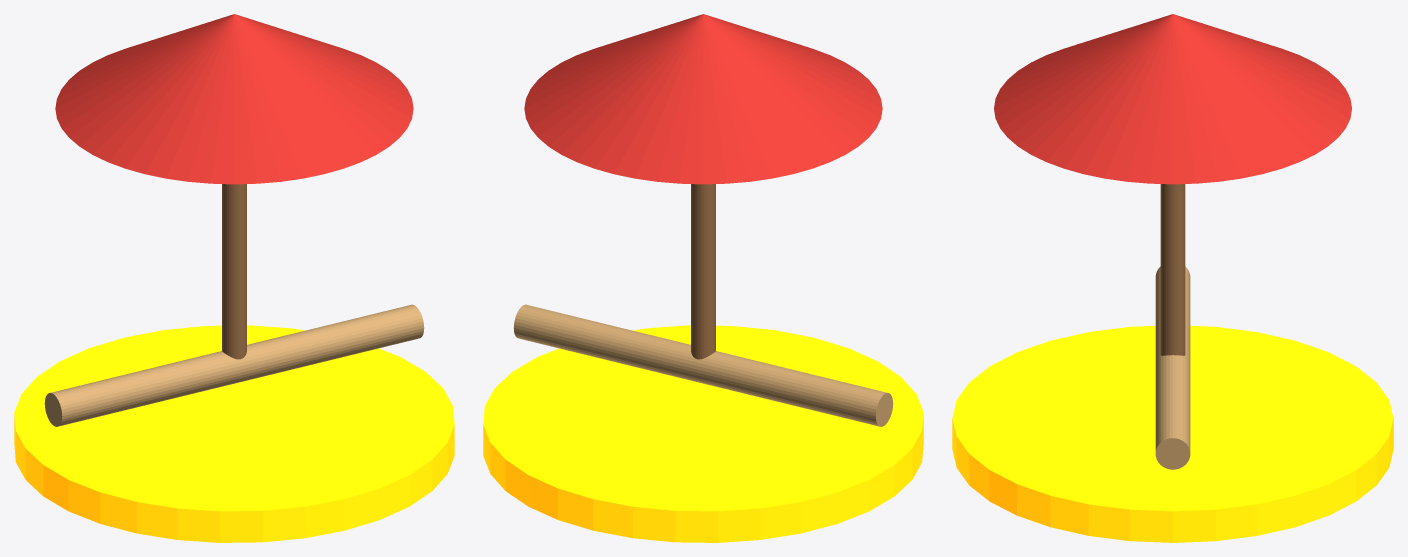
Rendered from spanish_beach_umbrella.glb.
3 renders of one model, left to right at view 1: azimuth 30°, elevation 25°; view 2: azimuth 150°, elevation 25°; view 3: azimuth 270°, elevation 25°, orthographic.
Parts seen in each view (by area): view 1: 11_12_Popular_Spanish_Beach_Umbrella_ROOT_base, 11_12_Popular_Spanish_Beach_Umbrella_part_02, 11_12_Popular_Spanish_Beach_Umbrella_part_03, 11_12_Popular_Spanish_Beach_Umbrella_part_01; view 2: 11_12_Popular_Spanish_Beach_Umbrella_ROOT_base, 11_12_Popular_Spanish_Beach_Umbrella_part_02, 11_12_Popular_Spanish_Beach_Umbrella_part_03, 11_12_Popular_Spanish_Beach_Umbrella_part_01; view 3: 11_12_Popular_Spanish_Beach_Umbrella_ROOT_base, 11_12_Popular_Spanish_Beach_Umbrella_part_02, 11_12_Popular_Spanish_Beach_Umbrella_part_03, 11_12_Popular_Spanish_Beach_Umbrella_part_01.
Boxes of the visible parts, x1,y1,x2,y2 form: 11_12_Popular_Spanish_Beach_Umbrella_ROOT_base: (14,325,454,542); 11_12_Popular_Spanish_Beach_Umbrella_part_02: (55,14,413,184); 11_12_Popular_Spanish_Beach_Umbrella_part_03: (44,304,424,426); 11_12_Popular_Spanish_Beach_Umbrella_part_01: (222,184,246,359); 11_12_Popular_Spanish_Beach_Umbrella_ROOT_base: (483,325,923,542); 11_12_Popular_Spanish_Beach_Umbrella_part_02: (524,14,882,184); 11_12_Popular_Spanish_Beach_Umbrella_part_03: (513,304,893,426); 11_12_Popular_Spanish_Beach_Umbrella_part_01: (691,184,715,359); 11_12_Popular_Spanish_Beach_Umbrella_ROOT_base: (952,325,1393,542); 11_12_Popular_Spanish_Beach_Umbrella_part_02: (994,14,1351,184); 11_12_Popular_Spanish_Beach_Umbrella_part_03: (1155,266,1190,469); 11_12_Popular_Spanish_Beach_Umbrella_part_01: (1160,184,1185,355).
Size of the model in its own units: 0.76 by 0.8286 by 0.76.
